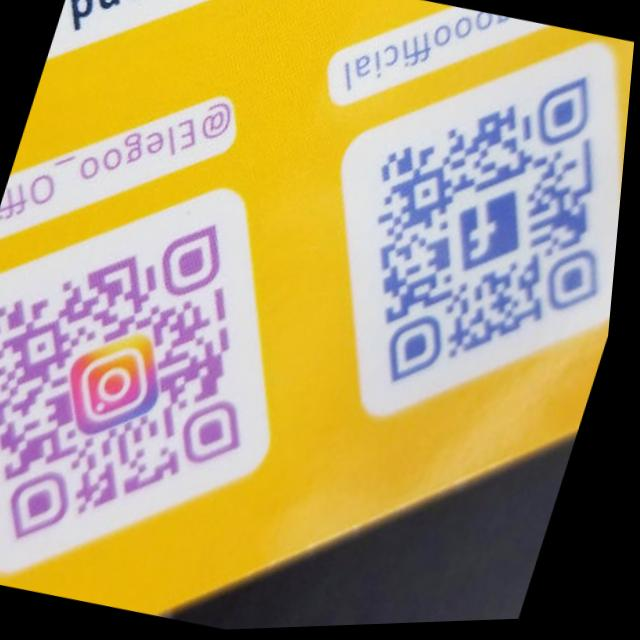QR_CODE: (0, 144, 338, 599), (310, 28, 637, 436)
